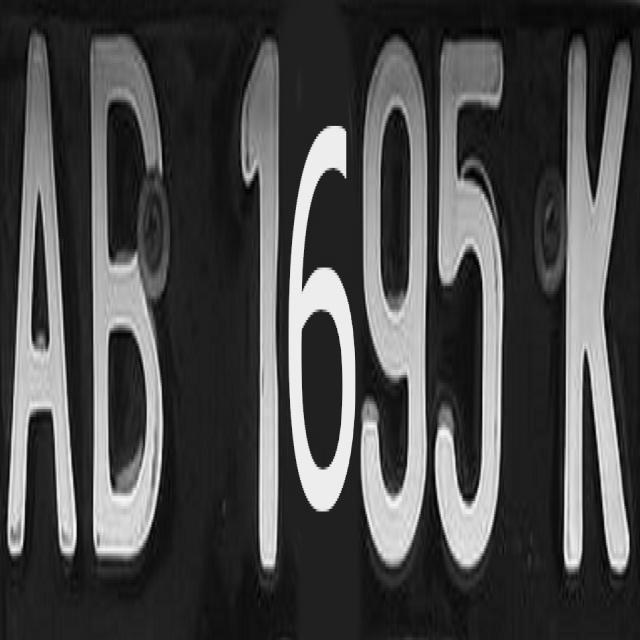1: (228, 13, 284, 581)
5: (428, 28, 524, 581)
6: (290, 115, 360, 538)
9: (363, 23, 425, 575)
A: (2, 32, 81, 568)
B: (78, 16, 184, 582)
K: (548, 18, 640, 579)
